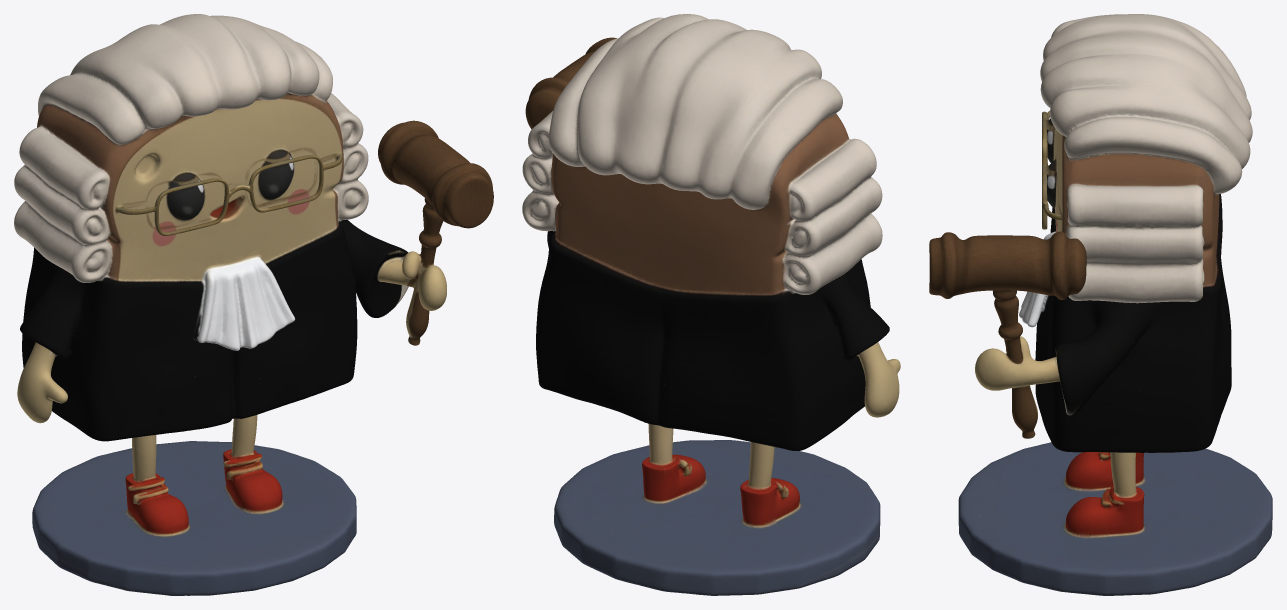
Rendered from judge-gaveltoes.glb.
3 renders of one model, left to right at view 1: azimuth 30°, elevation 25°; view 2: azimuth 150°, elevation 25°; view 3: azimuth 270°, elevation 25°, orthographic.
Bounding box in the file's own units: 1.56 × 1.9 × 1.18.
Materials: 1 (1 with a texture image).
